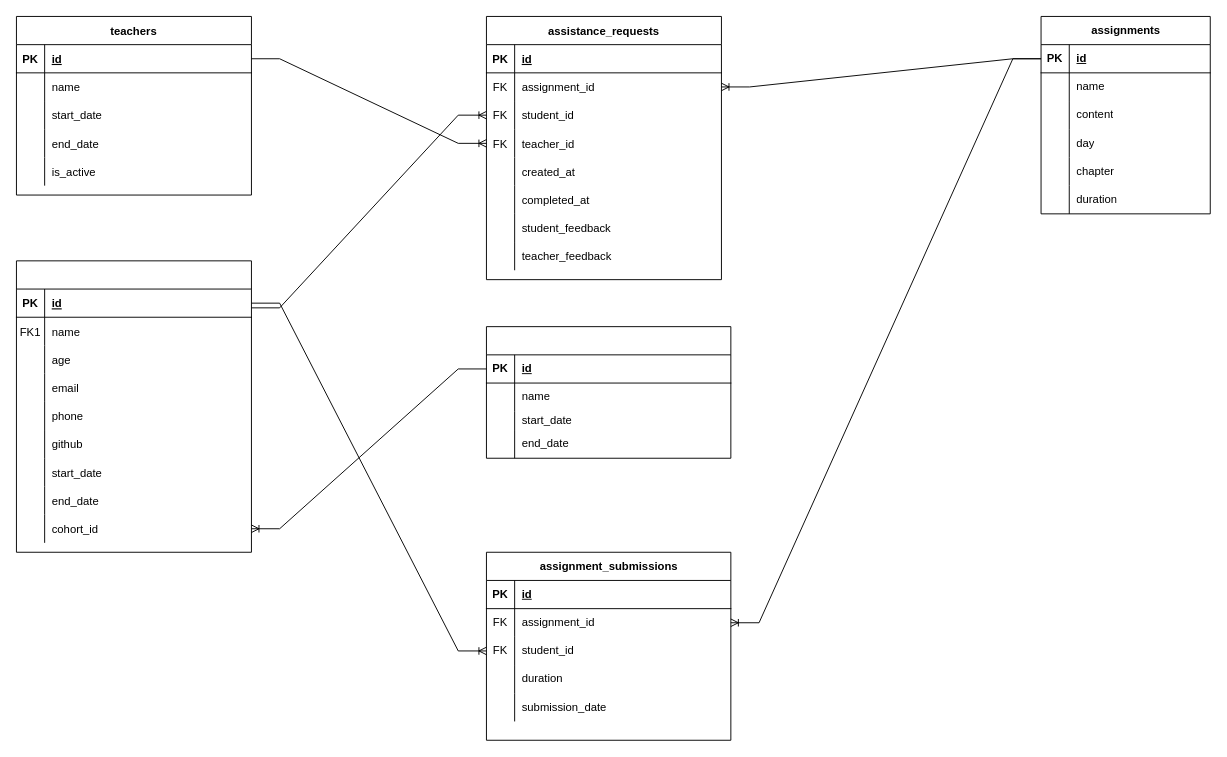
Some shapes in this 1227 by 757 pixel diagram are drawn without their labels. The shapes that lost their labels are listed below. From the top down, each one's box as (x1, y1, x2, y2) in pixels, then its label:
(16, 260, 251, 552): students
(486, 326, 731, 458): cohorts
